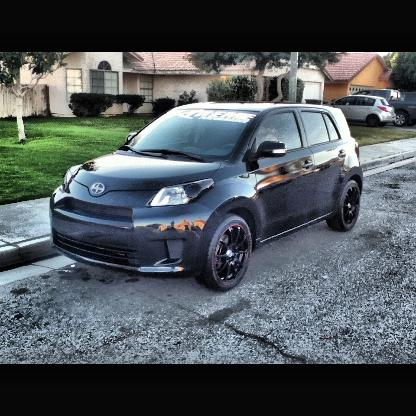Scion xD Hatchback 2012: (47, 101, 363, 289)
